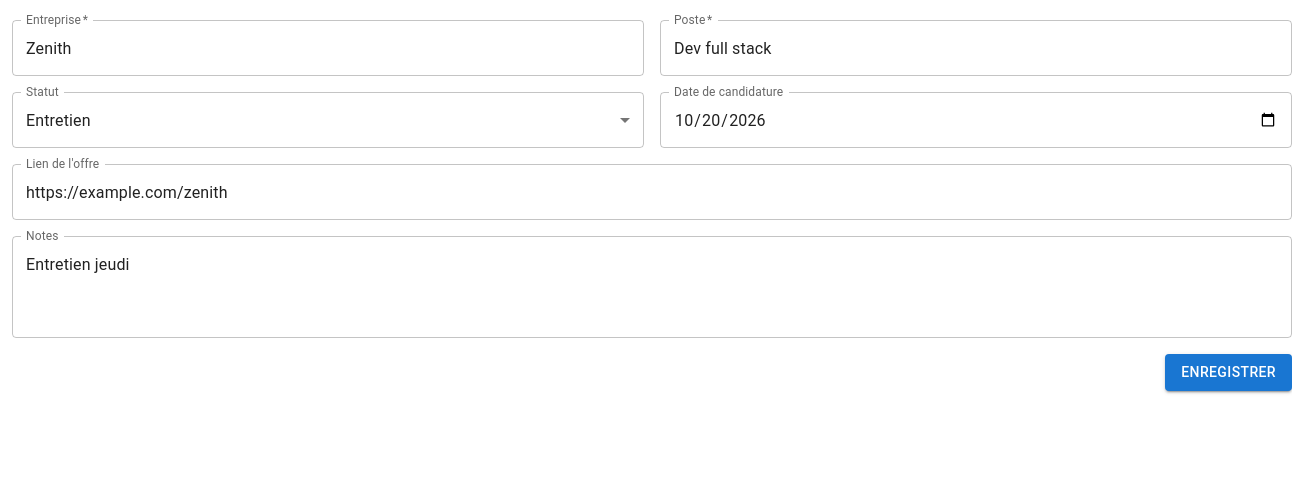
Test: ApplicationForm › affiche les erreurs de validation renvoyées par le serveur
Click the button "Enregistrer".
click(1229, 372)  # box [1165, 354, 1292, 390]
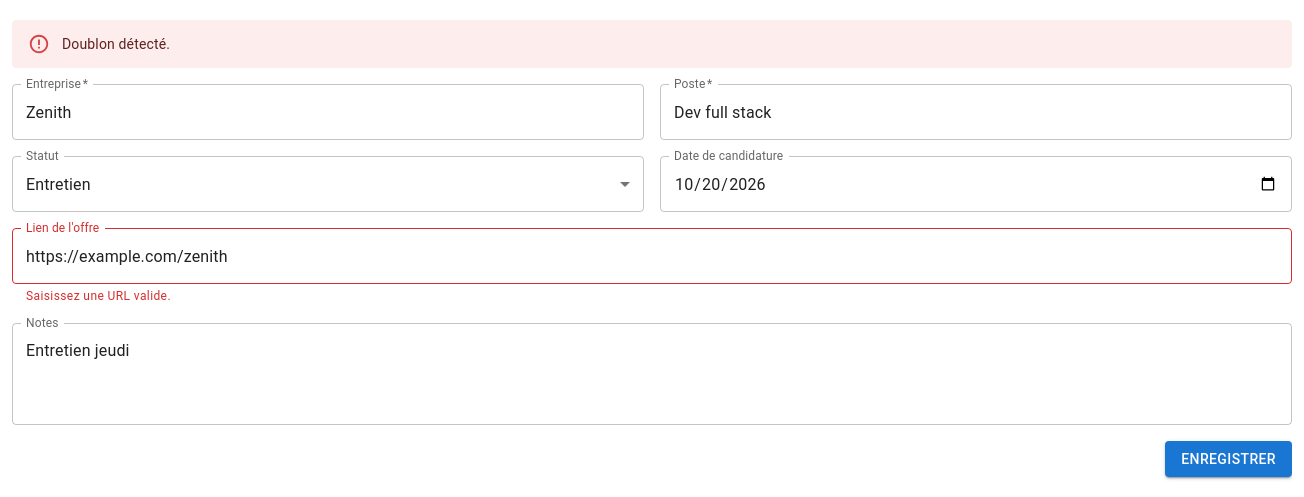
Result: the text "Saisissez une URL valide." is shown at [26, 289, 171, 303]
Result: the message reads "Doublon détecté." at [62, 36, 170, 52]
